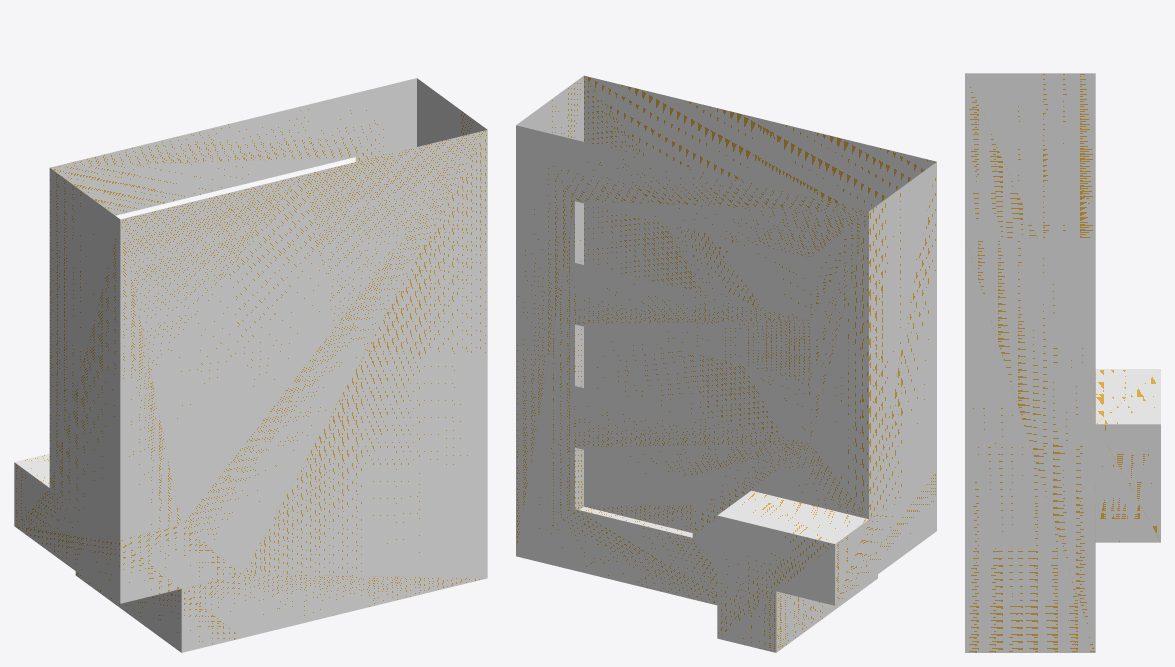
File: Note.obj
3 views of the same model, side by side, from view 1: azimuth 30°, elevation 25°; view 2: azimuth 150°, elevation 25°; view 3: azimuth 270°, elevation 25° (orthographic). The views are drawn at different scales.
Bounding box in the file's own units: 0.6 × 0.8 × 0.3.
